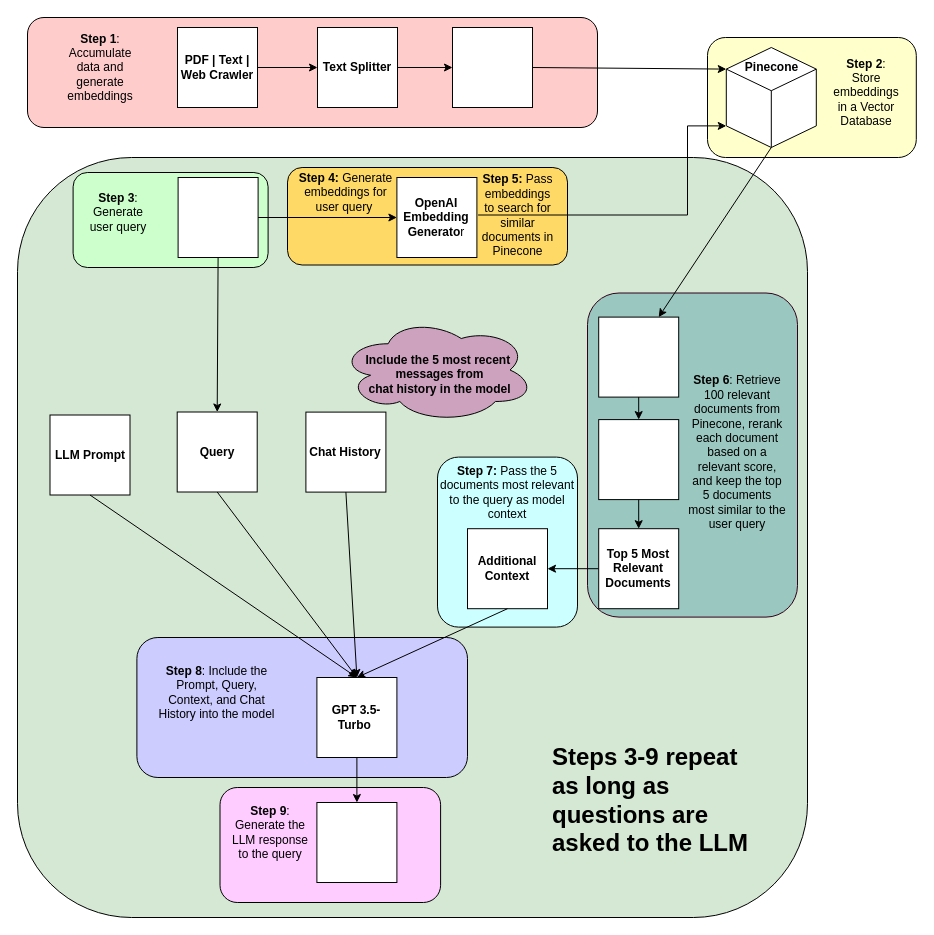
This 934x935 diagram has some shape labels left out. Each missing label, with the centre of its shape:
"100 Relevant Documents" belongs at point (638, 356).
"Cohere Reranker" belongs at point (638, 459).
"OpenAI Embedding Generator" belongs at point (492, 67).
"Query Response" belongs at point (356, 842).
"User Query" belongs at point (217, 217).
